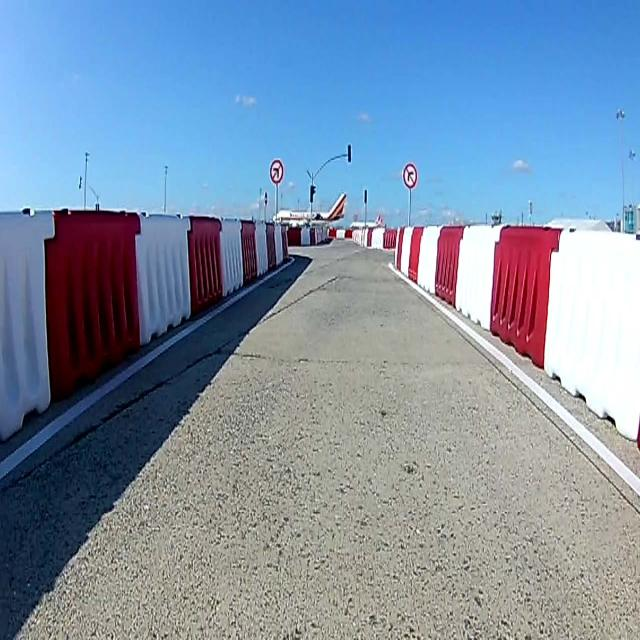sagadonulmez: (403, 162, 417, 189)
soladonulmez: (270, 159, 283, 184)
